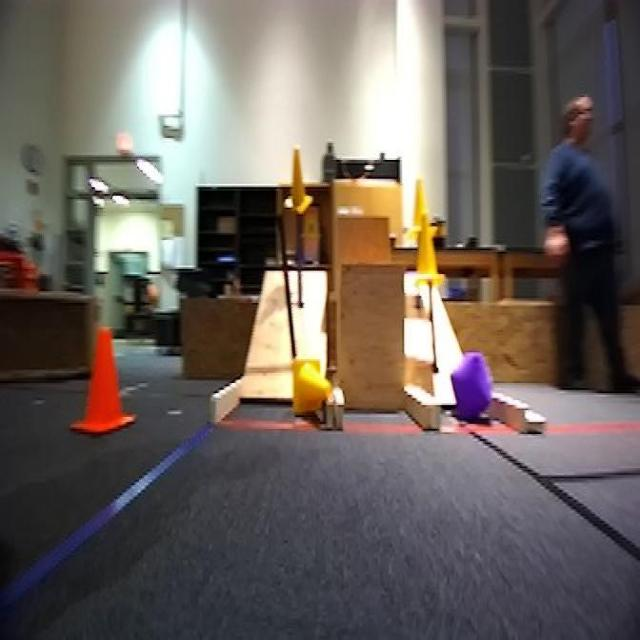frc_cone: (292, 357, 336, 419), (414, 172, 446, 240), (285, 148, 315, 215), (415, 216, 445, 281)
frc_cube: (450, 354, 490, 417)
